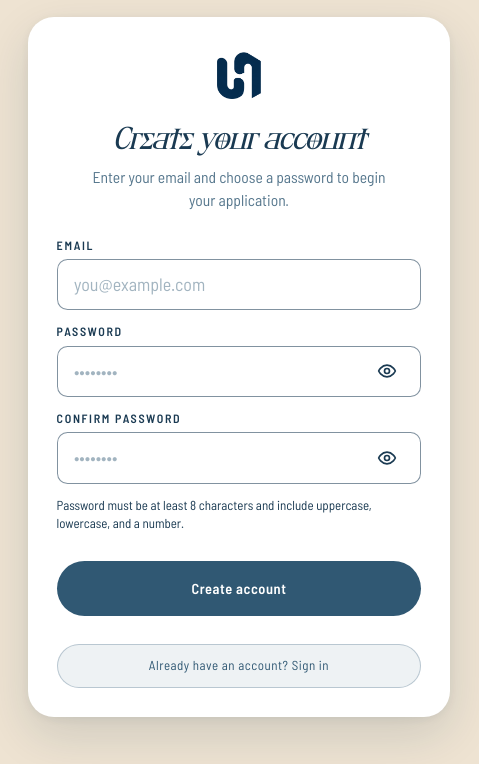
Test: SignInPage extended › shows email address in the verification step
Type "user@example.com" into the field labelled "Email".
click(239, 285); type("user@example.com")  # box [57,259,421,310]
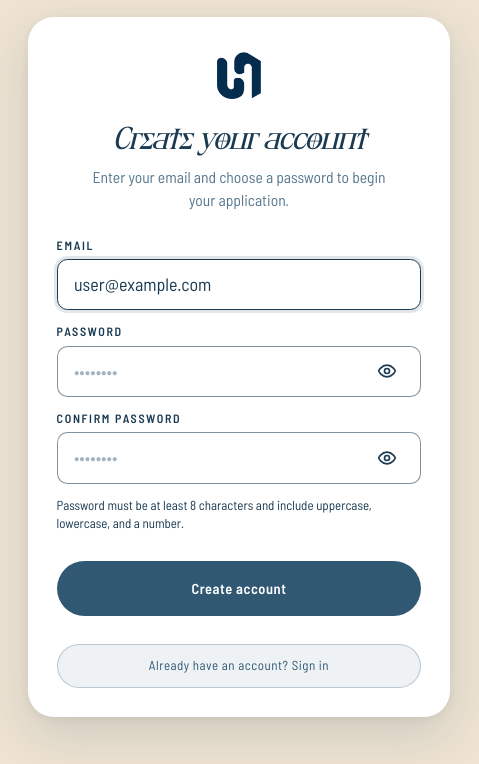
Type "Hackuta1" into the password field labelled "Password".
click(239, 371); type("Hackuta1")  # box [57,346,421,397]
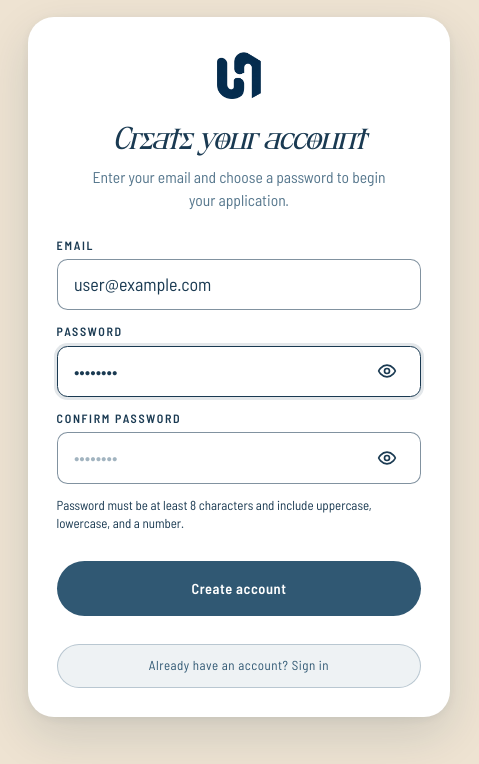
Type "Hackuta1" into the password field labelled "Confirm password".
click(239, 458); type("Hackuta1")  # box [57,432,421,484]
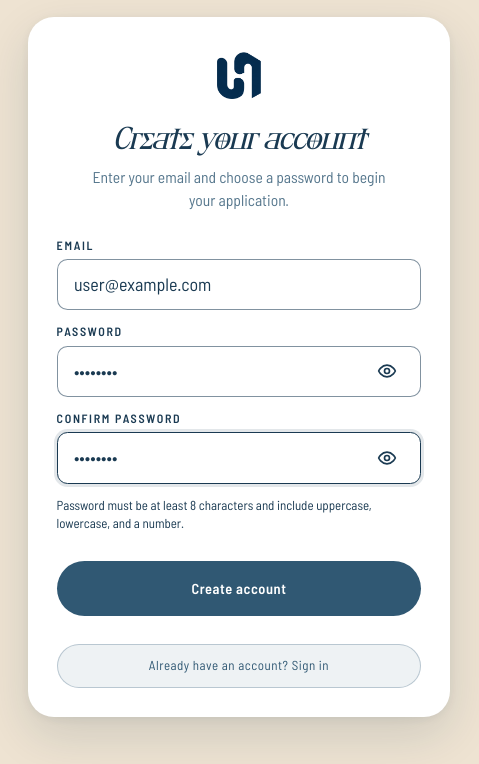
Click the button "Create account".
click(239, 589)  # box [57,561,421,616]
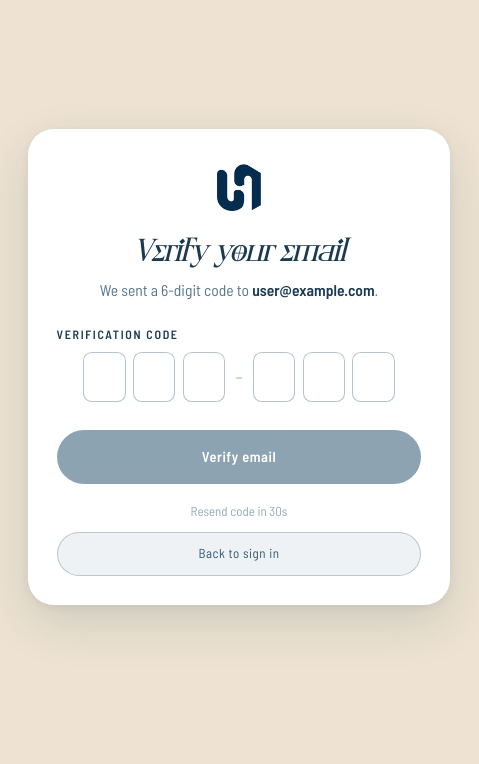
Result: the heading "Verify your email" is shown at [133,235,345,268]
Result: the text "user@example.com" is shown at [252,280,375,298]
